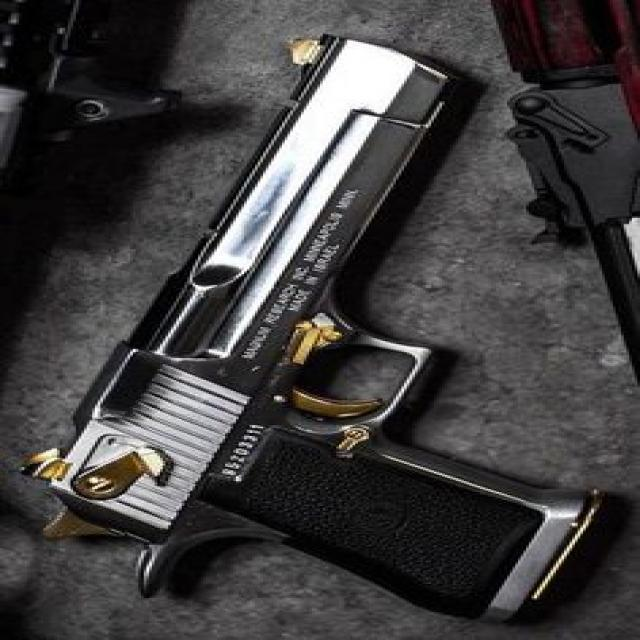semi automatic: (15, 14, 618, 635)
